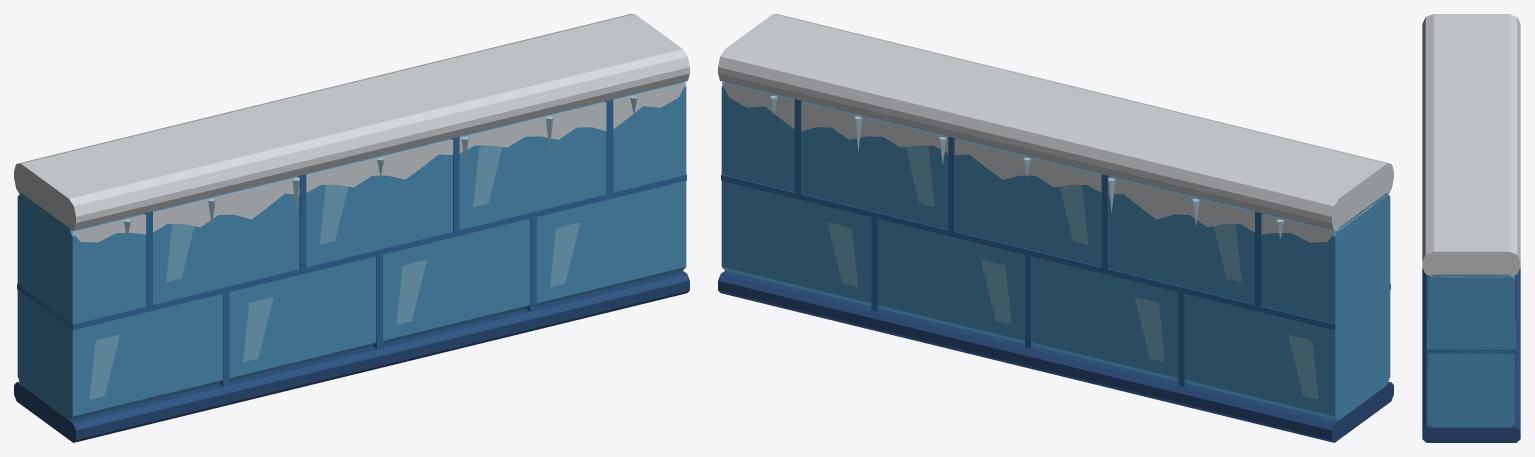
Rendered from ice-border.glb.
The picture shows the model from 3 angles, left to right: view 1: azimuth 30°, elevation 25°; view 2: azimuth 150°, elevation 25°; view 3: azimuth 270°, elevation 25°; orthographic projection. The views are drawn at different scales.
Parts seen in each view (by area): view 1: ice-border; view 2: ice-border; view 3: ice-border.
Part boxes in pixels (<box>): ice-border: <box>14,14,689,442</box>; ice-border: <box>718,14,1393,442</box>; ice-border: <box>1422,14,1520,442</box>.
Bounding box in the file's own units: 4 × 1.5 × 0.7.
